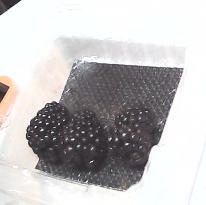berry: (57, 110, 107, 171), (107, 107, 157, 165), (27, 103, 70, 164)
